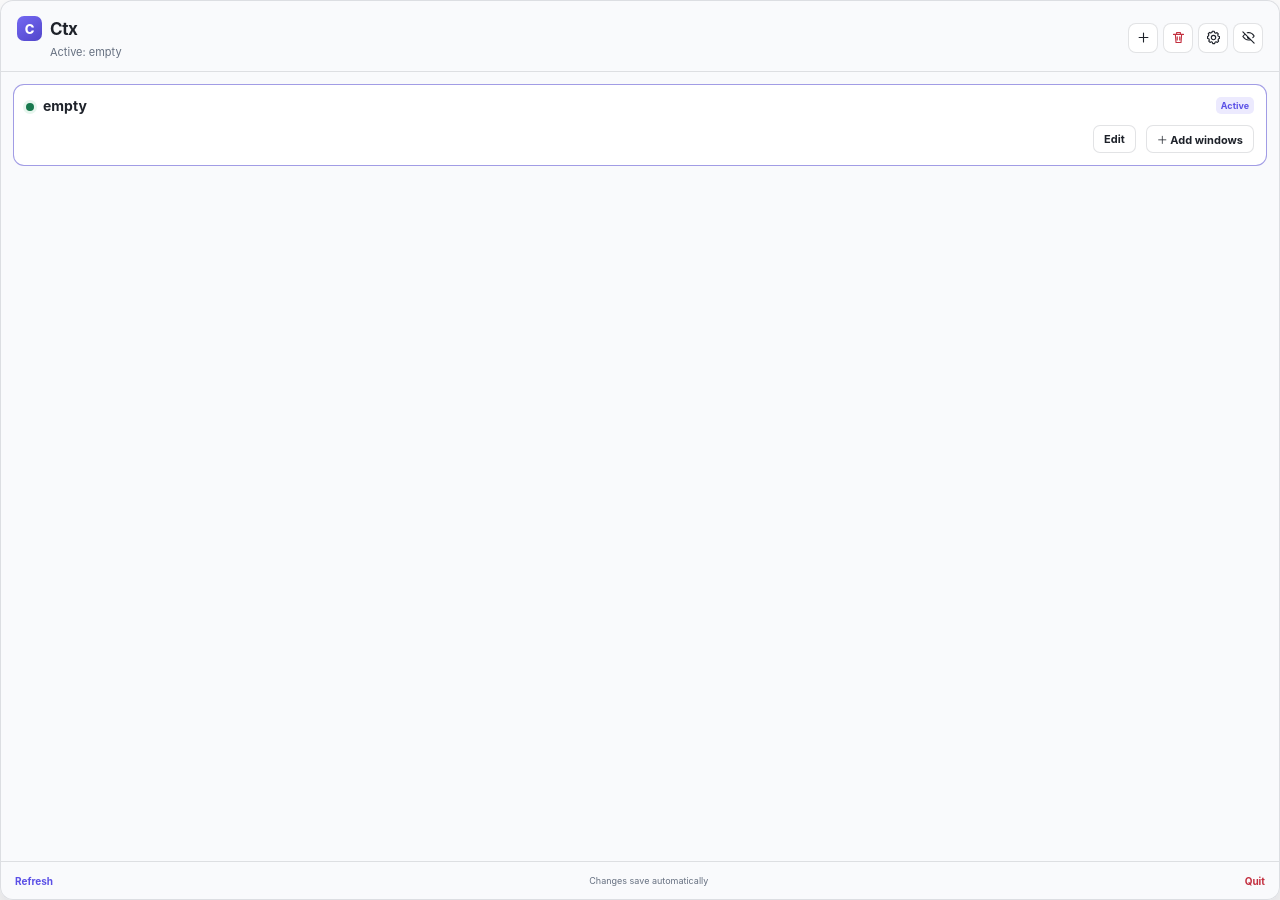
Test: Ctx popover › renders clear empty states for a context without URLs or windows
The width and height of the screenshot is (1280, 900).
Expected: the heading "empty" is shown, [43, 97, 87, 114]
Click the button with aria-label "Edit empty context" at (1114, 139), box [1093, 125, 1136, 153]
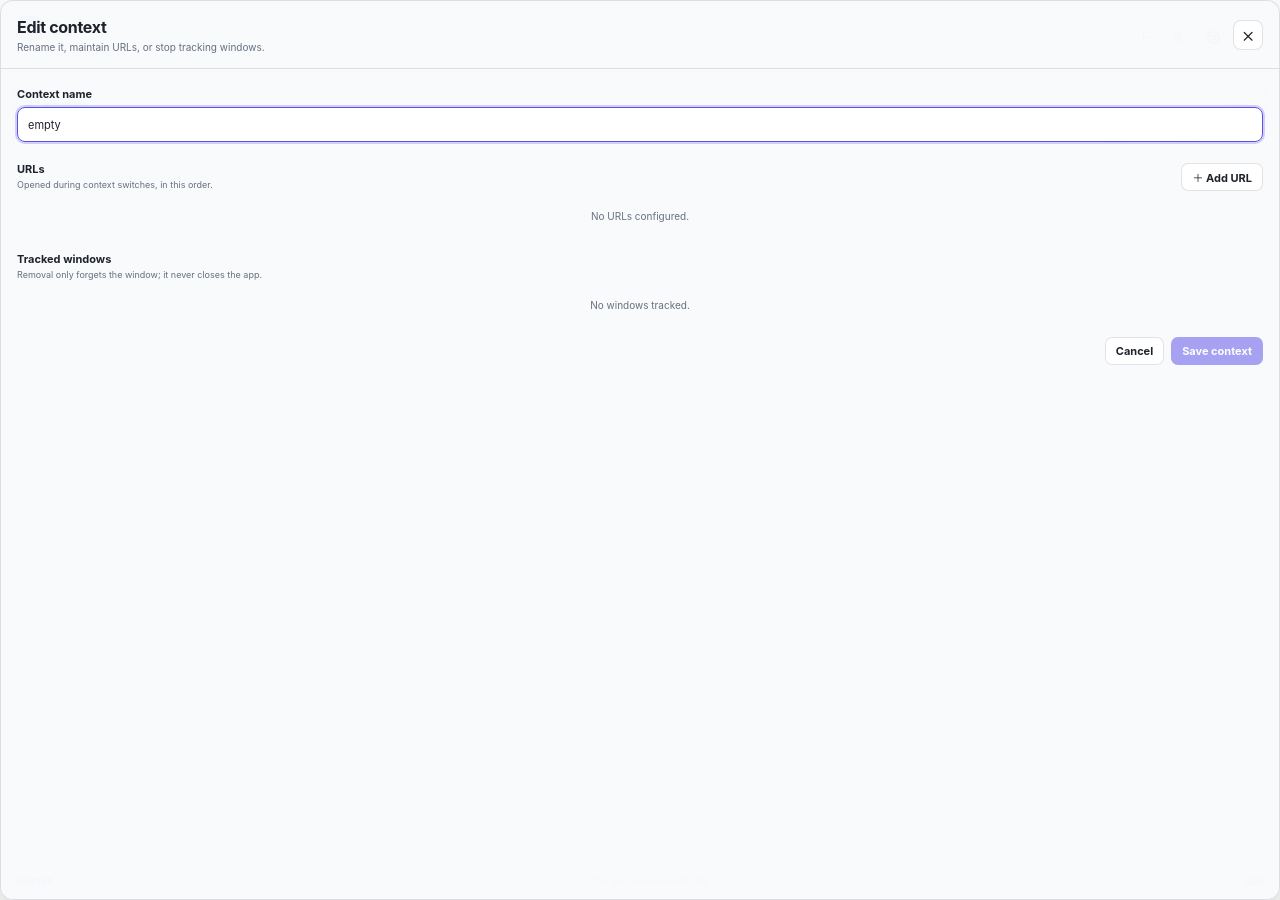
Expected: the text "No URLs configured." is shown, [591, 210, 689, 222]
Expected: the text "No windows tracked." is shown, [590, 299, 690, 311]
